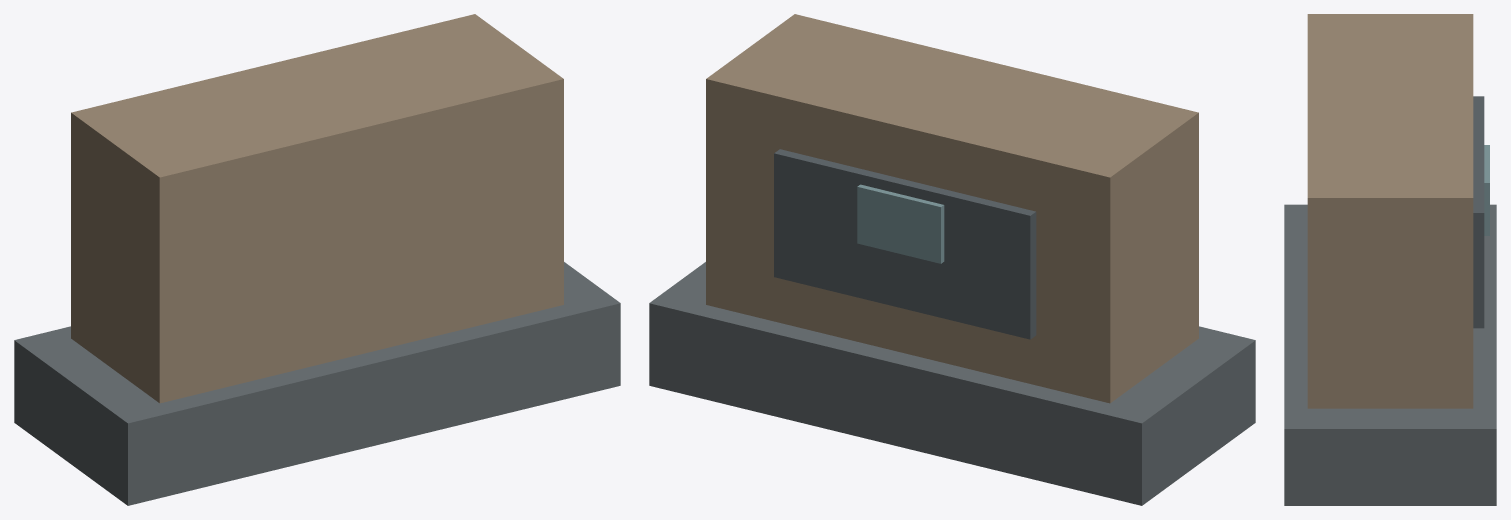
Rendered from iz3_health_lab_02.glb.
3 renders of one model, left to right at view 1: azimuth 30°, elevation 25°; view 2: azimuth 150°, elevation 25°; view 3: azimuth 270°, elevation 25°, orthographic. The views are drawn at different scales.
Parts seen in each view (by area): view 1: cabinet, base; view 2: cabinet, base, panel, display; view 3: cabinet, base, panel, display.
Boxes of the visible parts, x1,y1,x2,y2 form: cabinet: (71,14,563,403); base: (14,262,620,505); cabinet: (706,14,1198,403); base: (649,262,1255,505); panel: (774,149,1036,339); display: (857,184,944,263); cabinet: (1307,14,1473,408); base: (1284,204,1496,505); panel: (1473,96,1484,328); display: (1484,145,1489,235).
Bounding box in the file's own units: 2 × 1.2 × 0.8.
